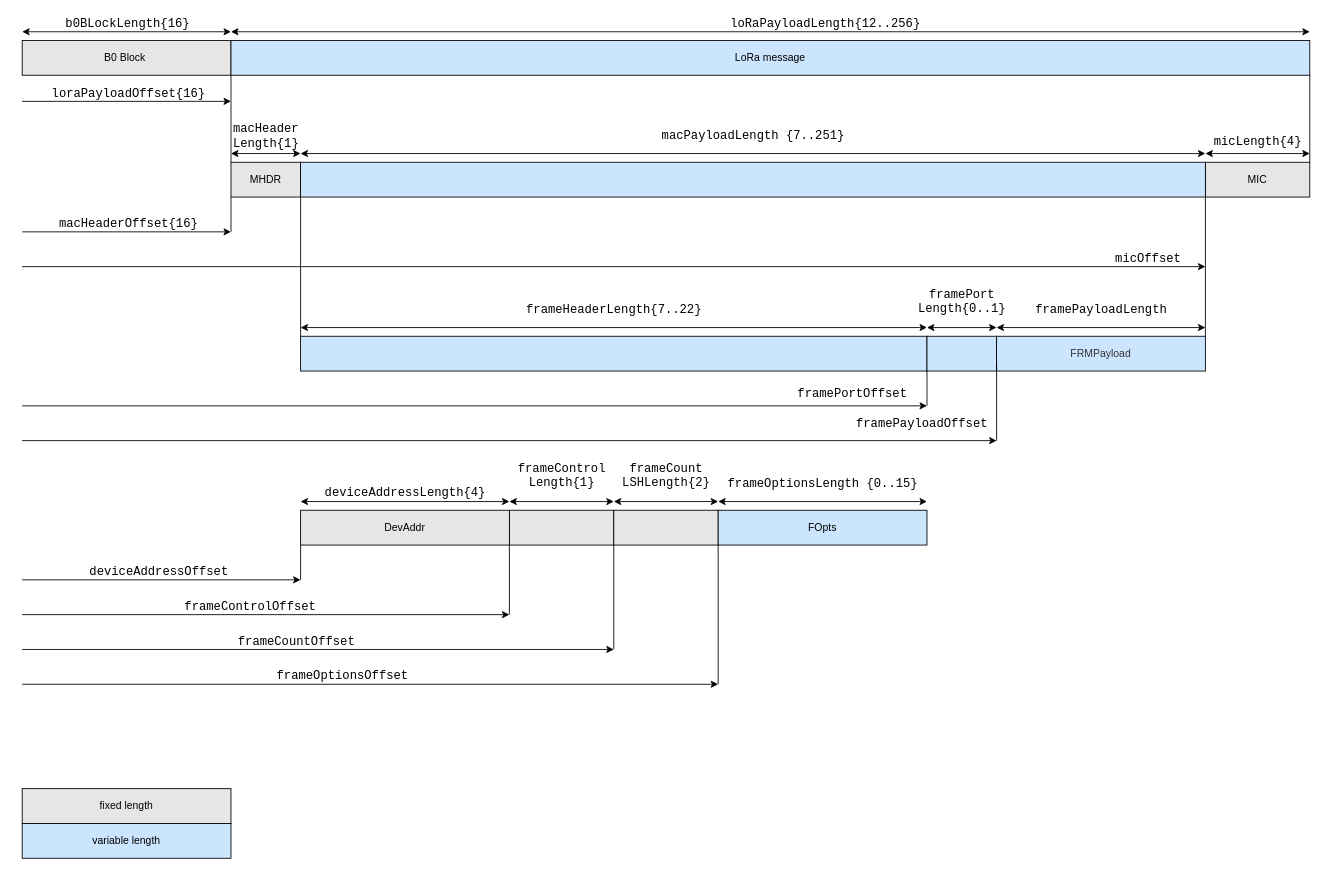
The diagram is 1333 pixels wide and 873 high, and some of its shapes have lost their labels. Each missing label, with the centre of its shape:
"FCnt" goes at [665,527].
"FCtrl" goes at [561,527].
"FHDR" goes at [613,353].
"FPort" goes at [961,353].
"MACPayload" goes at [752,179].
